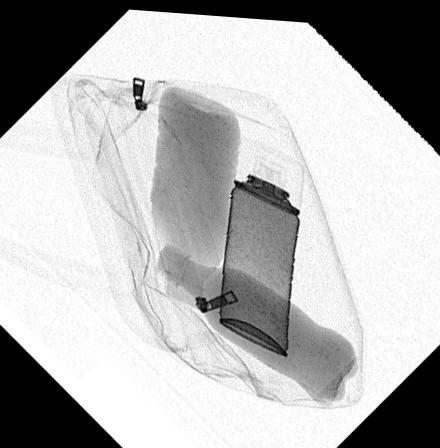Sprayer: (218, 133, 301, 354)
